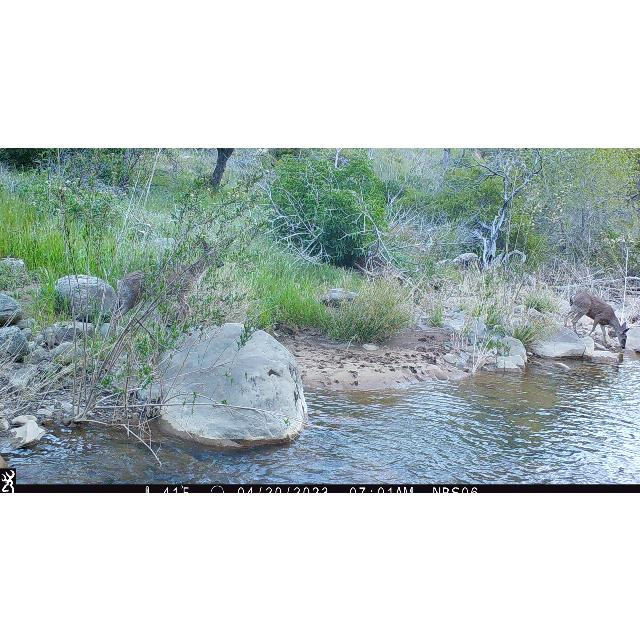animals: (113, 238, 225, 336), (564, 292, 630, 348)
